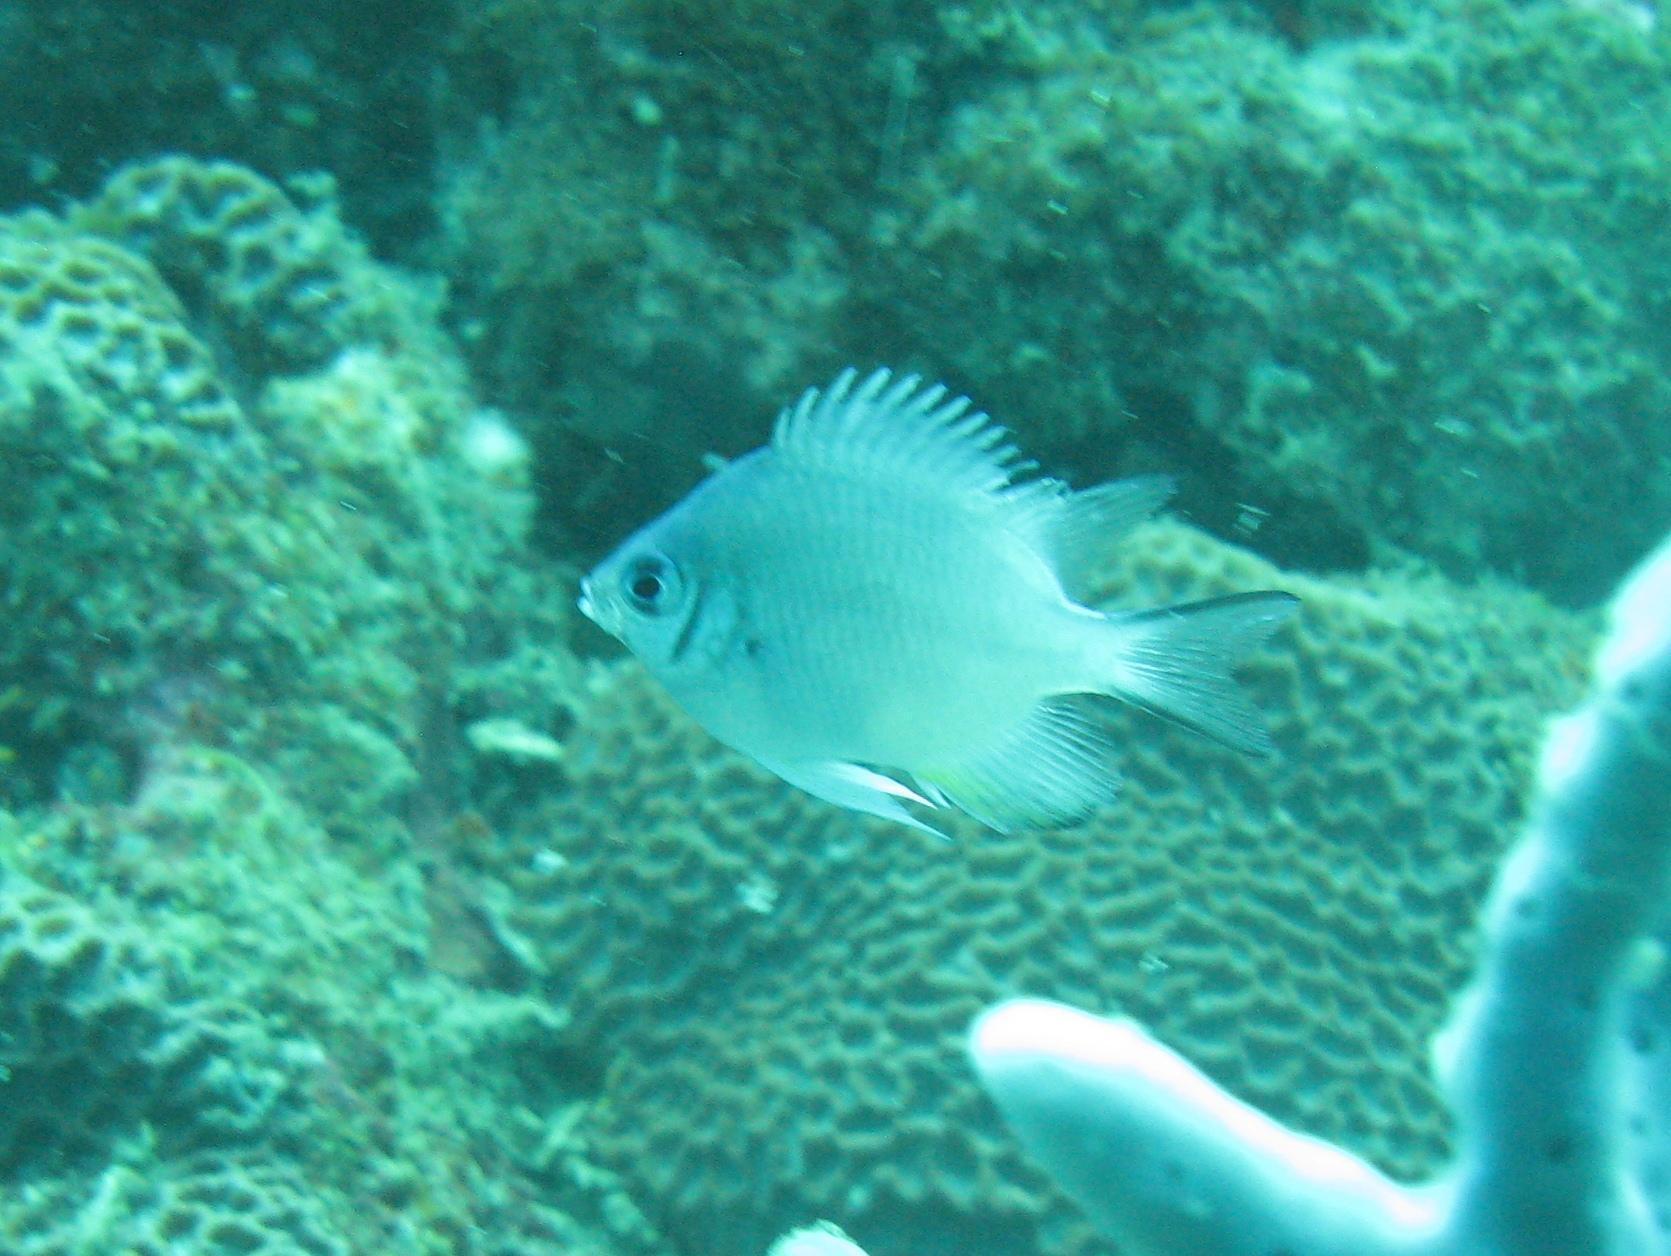Fish: (491, 360, 1343, 958)
